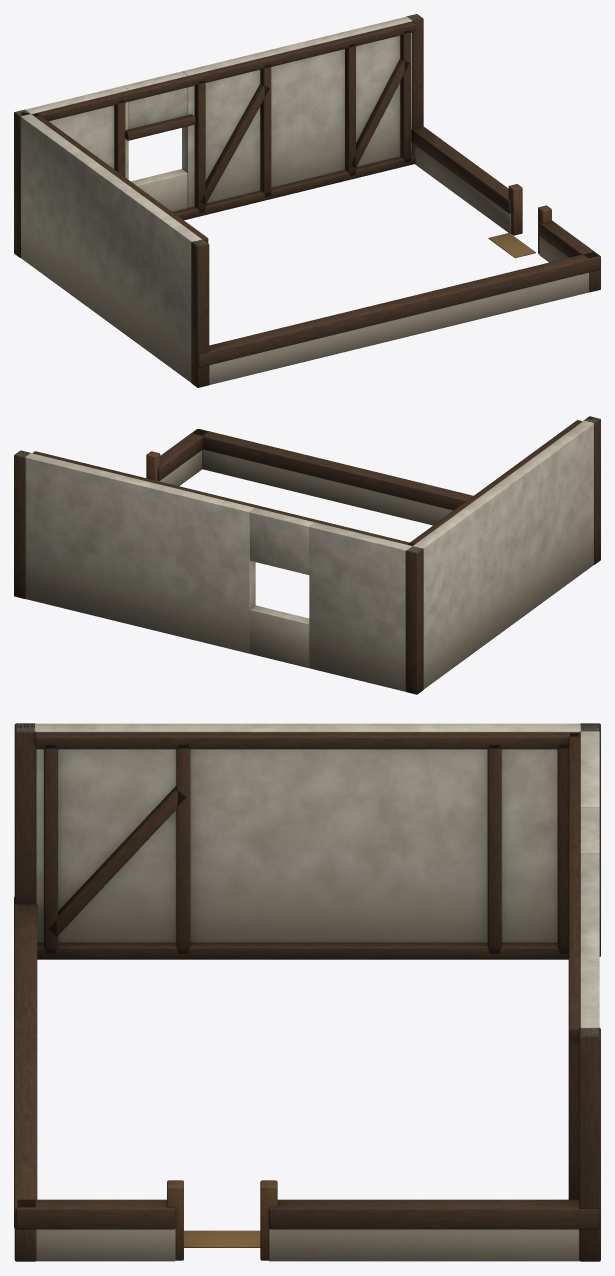
File: home_shell.glb
The picture shows the model from 3 angles, top to bottom: view 1: azimuth 30°, elevation 25°; view 2: azimuth 150°, elevation 25°; view 3: azimuth 270°, elevation 25°; orthographic projection. The views are drawn at different scales.
Visible parts, largest first — view 1: home_shell; view 2: home_shell; view 3: home_shell.
Part boxes in pixels (x1,y1,x2,y2): home_shell: (14, 14, 600, 387); home_shell: (14, 416, 600, 694); home_shell: (14, 723, 600, 1261).
Bounding box in the file's own units: 9.54 × 3.2 × 7.54.
Materials: 1 (1 with a texture image).
